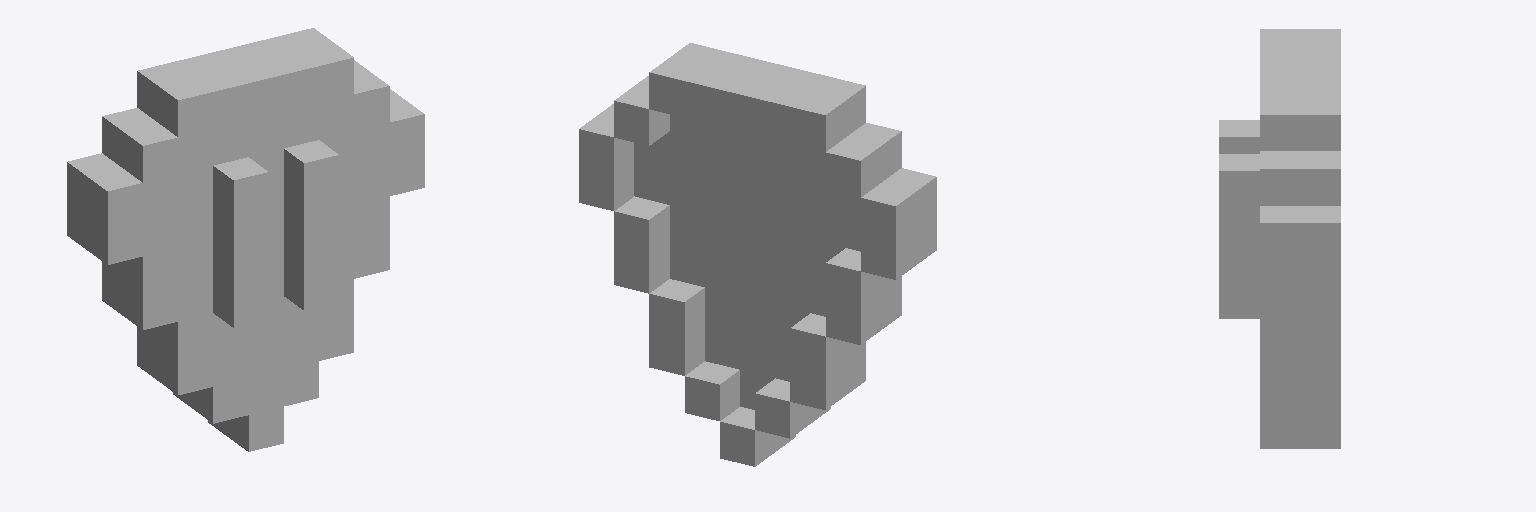
The model's file is Shield.obj.
3 renders of one model, left to right at view 1: azimuth 30°, elevation 25°; view 2: azimuth 150°, elevation 25°; view 3: azimuth 270°, elevation 25°, orthographic.
Parts seen in each view (by area): view 1: object 1; view 2: object 1; view 3: object 1.
Part boxes in pixels (left/top/right/bottom): object 1: left=67, top=28, right=424, bottom=451; object 1: left=579, top=43, right=936, bottom=466; object 1: left=1219, top=29, right=1340, bottom=448.
Size of the model in its own units: 0.9 by 1 by 0.3.